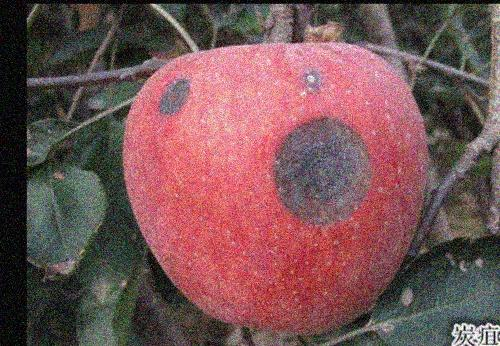rotten apple: (123, 41, 436, 336)
